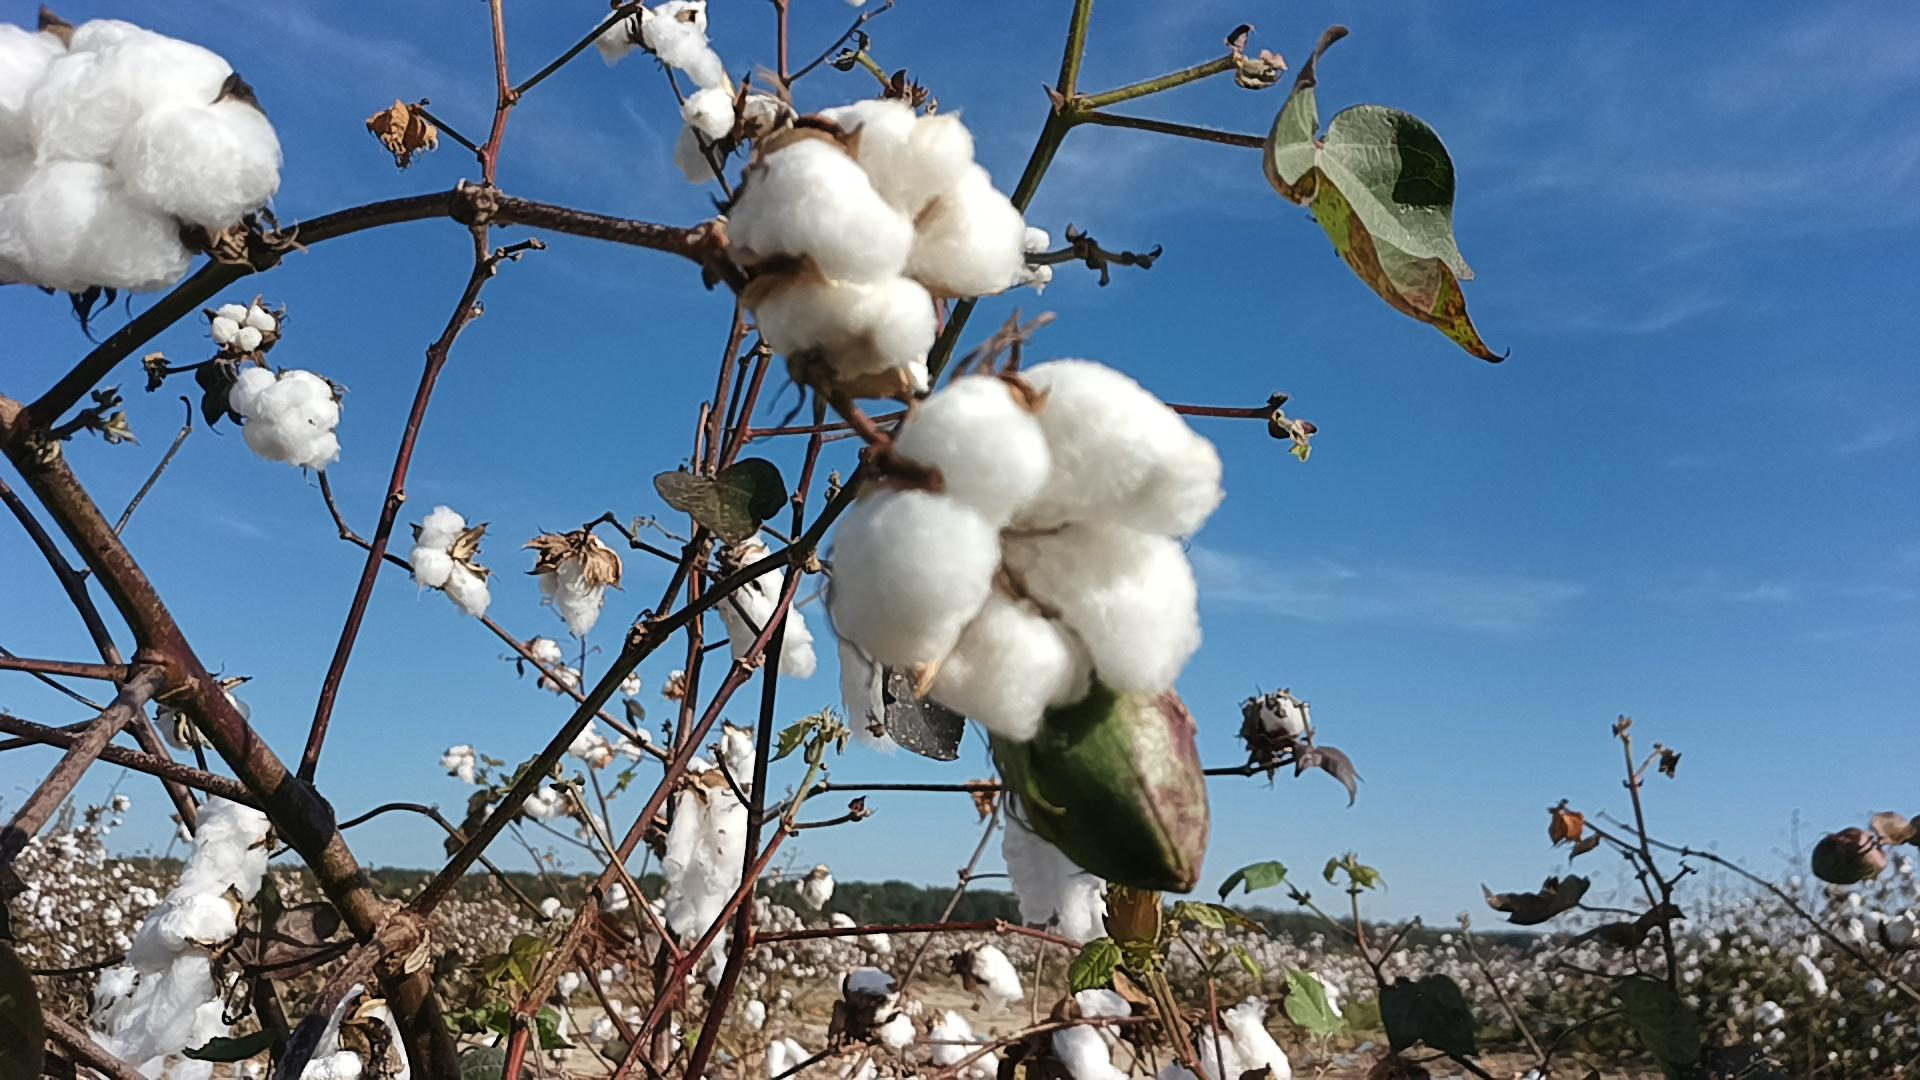cotton_ready: (832, 360, 1225, 737), (717, 103, 1023, 361), (0, 16, 281, 295), (597, 0, 741, 175), (115, 898, 239, 1060), (666, 728, 756, 948), (1006, 787, 1109, 939), (720, 531, 816, 683), (236, 365, 344, 467), (1164, 1002, 1295, 1080), (177, 790, 270, 893), (535, 533, 616, 638), (414, 508, 492, 613), (1050, 986, 1133, 1080), (1244, 696, 1311, 748), (964, 947, 1025, 1004), (214, 302, 276, 353), (299, 1051, 364, 1080)
